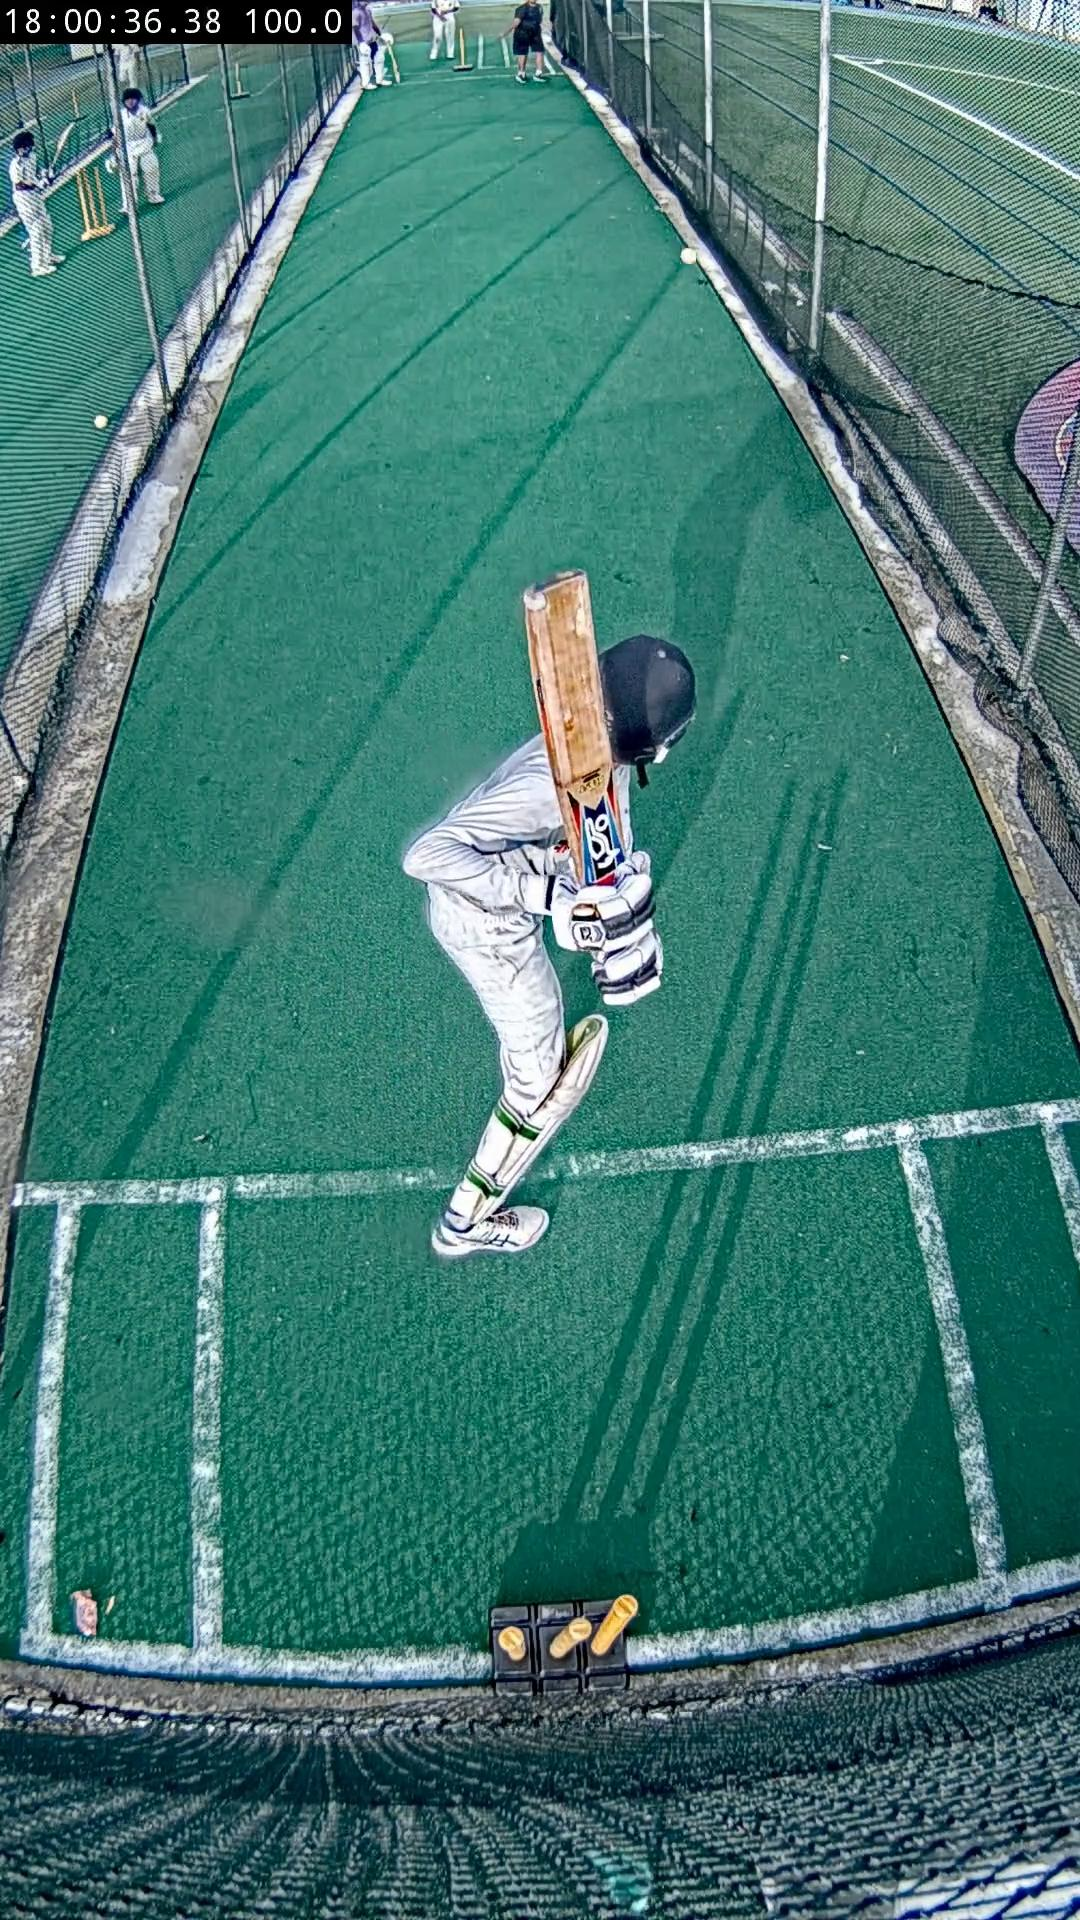ball: (679, 248, 698, 266)
bat: (525, 570, 626, 885)
gloves: (551, 852, 663, 1005)
helmet: (600, 634, 698, 765)
pads: (492, 1013, 608, 1199)
stumps: (488, 1594, 637, 1695)
